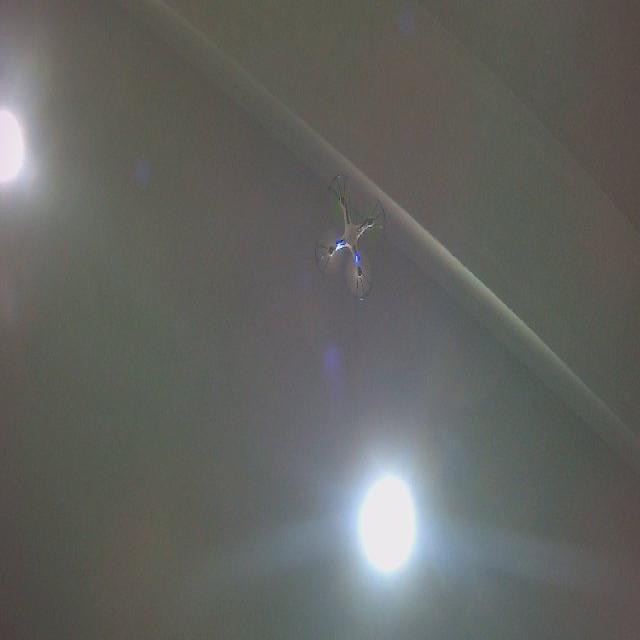drone: (312, 170, 389, 304)
